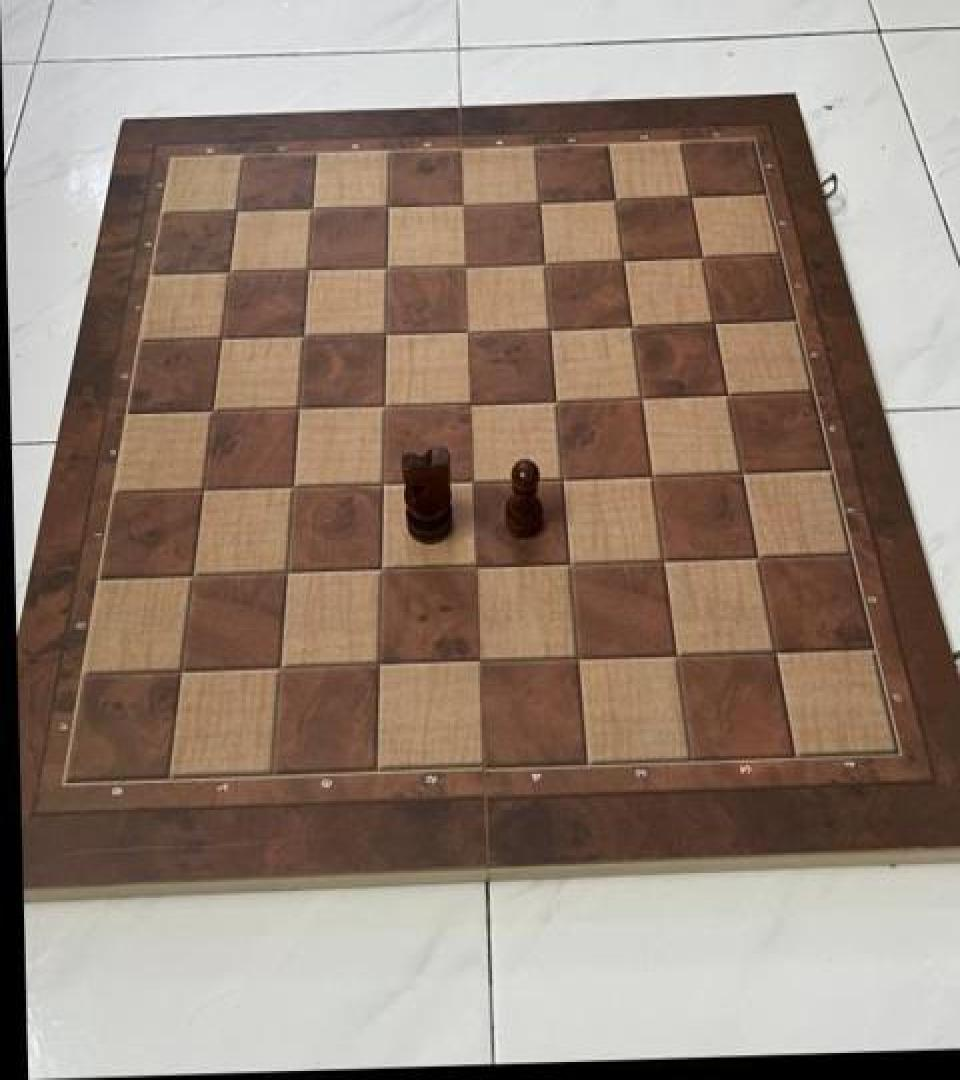xcorner: (688, 237, 722, 276), (221, 192, 255, 230), (298, 189, 332, 227), (374, 187, 408, 225), (450, 184, 484, 222), (526, 181, 560, 219), (601, 179, 635, 217), (677, 177, 711, 215), (214, 253, 248, 291), (293, 250, 327, 288), (373, 248, 407, 286), (452, 246, 486, 284), (530, 242, 564, 280), (609, 240, 643, 278), (206, 320, 240, 358), (289, 316, 323, 354), (371, 314, 405, 352), (454, 312, 488, 350), (536, 308, 570, 346), (618, 306, 652, 344), (700, 303, 734, 341), (198, 392, 232, 430), (284, 390, 318, 428), (370, 386, 404, 424), (456, 382, 490, 420), (541, 380, 575, 418), (627, 377, 661, 415), (713, 375, 747, 413), (188, 472, 222, 510), (278, 468, 312, 506), (368, 465, 402, 503), (458, 462, 492, 500), (548, 458, 582, 496), (637, 456, 671, 494), (727, 452, 761, 490), (178, 558, 212, 596), (272, 555, 306, 593), (366, 552, 400, 590), (461, 548, 495, 586), (554, 544, 588, 582), (648, 541, 682, 579), (742, 538, 776, 576), (167, 652, 201, 690), (266, 649, 300, 687), (365, 646, 399, 684), (463, 642, 497, 680), (562, 638, 596, 676), (660, 634, 694, 672), (759, 631, 793, 669)
